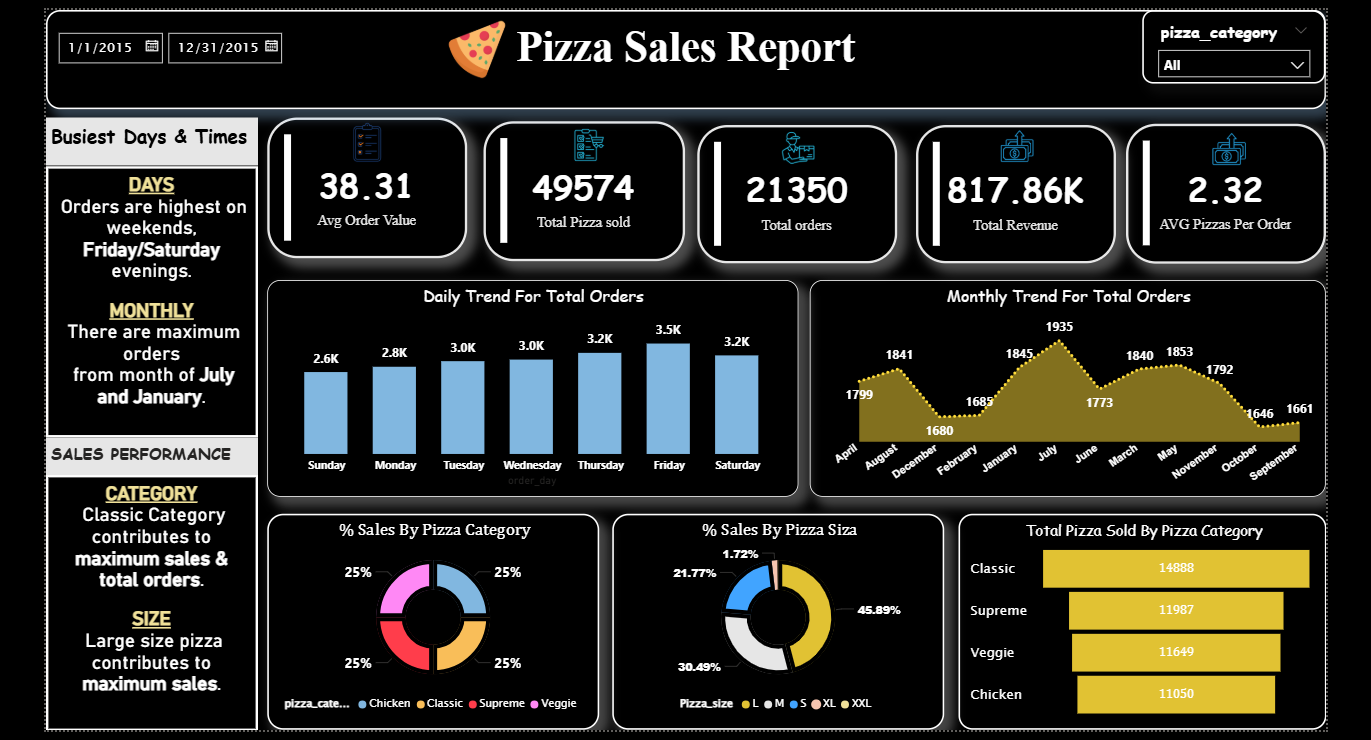

Layout of this report page (visuals, bound fields, positions):
{"tool":"powerbi","page":{"name":"OverView","canvas":[1280,720],"ordinal":0},"visuals":[{"type":"cardVisual","fields":{"Data":["Sum(vw_Kpi_3_Avg_Order_Value.Avg_Order_Value)"]},"box":[220.8,107.4,200.3,141.2],"z":0},{"type":"image","box":[1148.5,114.6,68.8,48.3],"z":1000},{"type":"cardVisual","fields":{"Data":["Sum(vw_KPI_5_Avg_Pizzas_Per_Order.AVG_Pizzas_Per_Order)"]},"box":[1079.8,113.4,200.3,139.9],"z":2000},{"type":"cardVisual","fields":{"Data":["Sum(vw_KPI_1_Total_Revenue.Total Revenue)"]},"box":[869.8,114.6,200.3,138.7],"z":3000},{"type":"cardVisual","fields":{"Data":["Sum(vw_KPI_1_Total_Orders.Total_orders)"]},"box":[651.5,114.6,200.3,138.7],"z":4000},{"type":"cardVisual","fields":{"Data":["Sum(vw_Kpi_4_Total_pizza_sold.Total_Pizza_sold)"]},"box":[437.9,111,201.5,139.9],"z":5000},{"type":"image","box":[725.1,115.8,54.3,43.4],"z":6000},{"type":"image","box":[521.2,113.4,44.6,42.2],"z":7000},{"type":"image","box":[292,107.4,57.9,49.5],"z":8000},{"type":"image","box":[927.8,112.2,86.9,47.1],"z":9000},{"type":"clusteredColumnChart","title":"Daily Trend For Total Orders","fields":{"Category":["vw_chart_1_Daily_Trend_Total_Orders.order_day"],"Y":["Sum(vw_chart_1_Daily_Trend_Total_Orders.total_orders)"]},"box":[220.8,270.2,530.8,217.2],"z":10000},{"type":"lineChart","title":"Monthly Trend For Total Orders","fields":{"Y":["Sum(vw_Chart_2_Monthly_trend_for_Total_Orders.Total_orders)"],"Category":["vw_Chart_2_Monthly_trend_for_Total_Orders.Month_name"]},"box":[763.7,270.2,516.4,217.2],"z":11000},{"type":"donutChart","title":"% Sales By Pizza Category","fields":{"Category":["pizza_sales.pizza_category"],"Y":["Avg(vw_Chart_3_Pct_Sales_By_Category.Total_Sales)"]},"box":[220.8,504.3,331.8,216],"z":12000},{"type":"donutChart","title":"% Sales By Pizza Siza","fields":{"Category":["vw_chart_4_PTC_Sales_By_Size.Pizza_size"],"Y":["Avg(vw_chart_4_PTC_Sales_By_Size.total_sales)"]},"box":[565.8,504.3,331.8,216],"z":13000},{"type":"funnel","title":"Total Pizza Sold By Pizza Category","fields":{"Category":["vw_chart_5_Total_Pizza_Solds_By_Category.pizza_category"],"Y":["Sum(vw_chart_5_Total_Pizza_Solds_By_Category.Total_quantity_sold)"]},"box":[912.1,504.3,368,216],"z":14000},{"type":"textbox","box":[0,0,1280,98.9],"z":15000},{"type":"image","box":[394.5,4.8,72.4,68.8],"z":16000},{"type":"slicer","fields":{"Values":["vw_Chart_3_Pct_Sales_By_Category.pizza_category"]},"box":[1096.7,0,183.4,73.6],"z":17000},{"type":"slicer","fields":{"Values":["pizza_sales.order_date"]},"box":[0,12.1,248.5,49.5],"z":18000},{"type":"textbox","box":[0,107.4,212.3,48.3],"z":19000},{"type":"textbox","box":[0,155.6,212.3,271.4],"z":20000},{"type":"textbox","box":[0,464.5,212.3,255.8],"z":21000},{"type":"textbox","box":[0,427.1,212.3,37.4],"z":22000}]}

Visuals, with their boxes on the page's 1280x720 design canvas (x1, y1, x2, y2). These are canvas units, not pixel positions in the 1371x740 screenshot, which may show the page scaled, cropped or inside an application window:
cardVisual - Sum(vw_Kpi_3_Avg_Order_Value.Avg_Order_Value): x1=221, y1=107, x2=421, y2=249
image: x1=1148, y1=115, x2=1217, y2=163
cardVisual - Sum(vw_KPI_5_Avg_Pizzas_Per_Order.AVG_Pizzas_Per_Order): x1=1080, y1=113, x2=1280, y2=253
cardVisual - Sum(vw_KPI_1_Total_Revenue.Total Revenue): x1=870, y1=115, x2=1070, y2=253
cardVisual - Sum(vw_KPI_1_Total_Orders.Total_orders): x1=652, y1=115, x2=852, y2=253
cardVisual - Sum(vw_Kpi_4_Total_pizza_sold.Total_Pizza_sold): x1=438, y1=111, x2=639, y2=251
image: x1=725, y1=116, x2=779, y2=159
image: x1=521, y1=113, x2=566, y2=156
image: x1=292, y1=107, x2=350, y2=157
image: x1=928, y1=112, x2=1015, y2=159
"Daily Trend For Total Orders" clusteredColumnChart: x1=221, y1=270, x2=752, y2=487
"Monthly Trend For Total Orders" lineChart: x1=764, y1=270, x2=1280, y2=487
"% Sales By Pizza Category" donutChart: x1=221, y1=504, x2=553, y2=720
"% Sales By Pizza Siza" donutChart: x1=566, y1=504, x2=898, y2=720
"Total Pizza Sold By Pizza Category" funnel: x1=912, y1=504, x2=1280, y2=720
textbox: x1=0, y1=0, x2=1280, y2=99
image: x1=394, y1=5, x2=467, y2=74
slicer - vw_Chart_3_Pct_Sales_By_Category.pizza_category: x1=1097, y1=0, x2=1280, y2=74
slicer - pizza_sales.order_date: x1=0, y1=12, x2=248, y2=62
textbox: x1=0, y1=107, x2=212, y2=156
textbox: x1=0, y1=156, x2=212, y2=427
textbox: x1=0, y1=464, x2=212, y2=720
textbox: x1=0, y1=427, x2=212, y2=464
